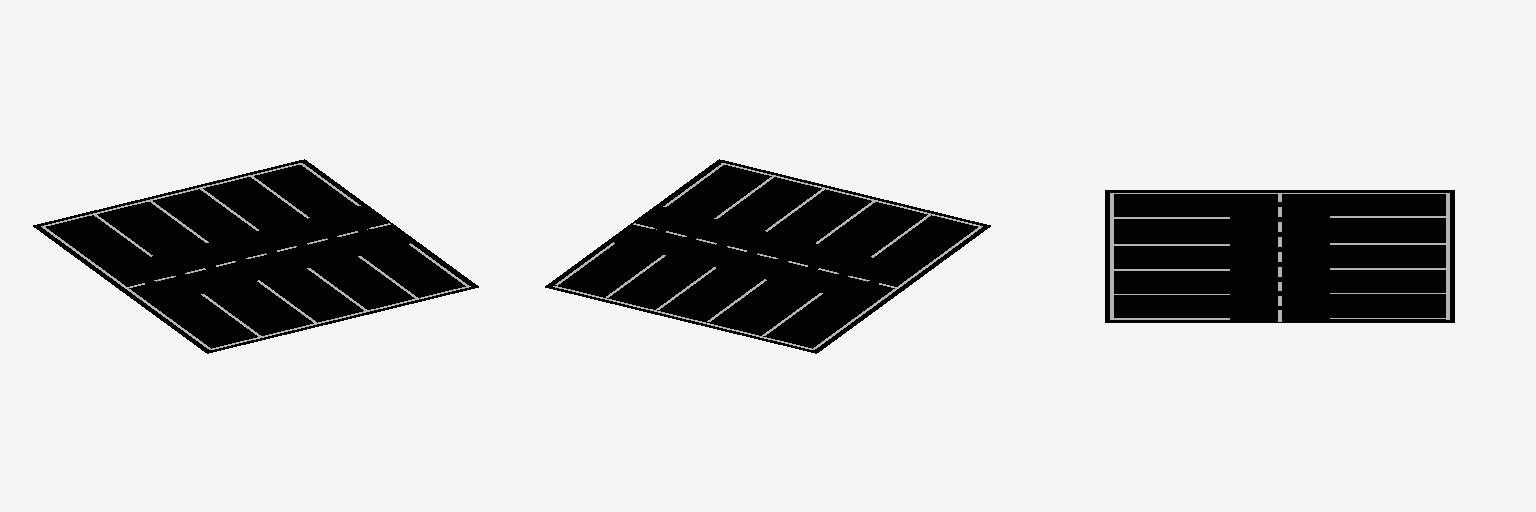
The model's file is parkingLot.obj.
The picture shows the model from 3 angles: view 1: azimuth 30°, elevation 25°; view 2: azimuth 150°, elevation 25°; view 3: azimuth 270°, elevation 25°; orthographic projection.
Visible parts, largest first — view 1: Plane, Plane.004, Plane.005_Plane.009; view 2: Plane, Plane.005_Plane.009, Plane.004; view 3: Plane, Plane.004, Plane.005_Plane.009.
Boxes of the visible parts, box(x1,y1,x2,y2) form: Plane: box(33, 159, 478, 353); Plane.004: box(201, 243, 468, 336); Plane.005_Plane.009: box(93, 163, 360, 256); Plane: box(545, 159, 990, 353); Plane.005_Plane.009: box(555, 242, 822, 335); Plane.004: box(663, 164, 930, 257); Plane: box(1105, 190, 1454, 322); Plane.004: box(1113, 217, 1229, 319); Plane.005_Plane.009: box(1330, 216, 1446, 318).
Size of the model in its own units: 2.7 by 0.0099 by 3.